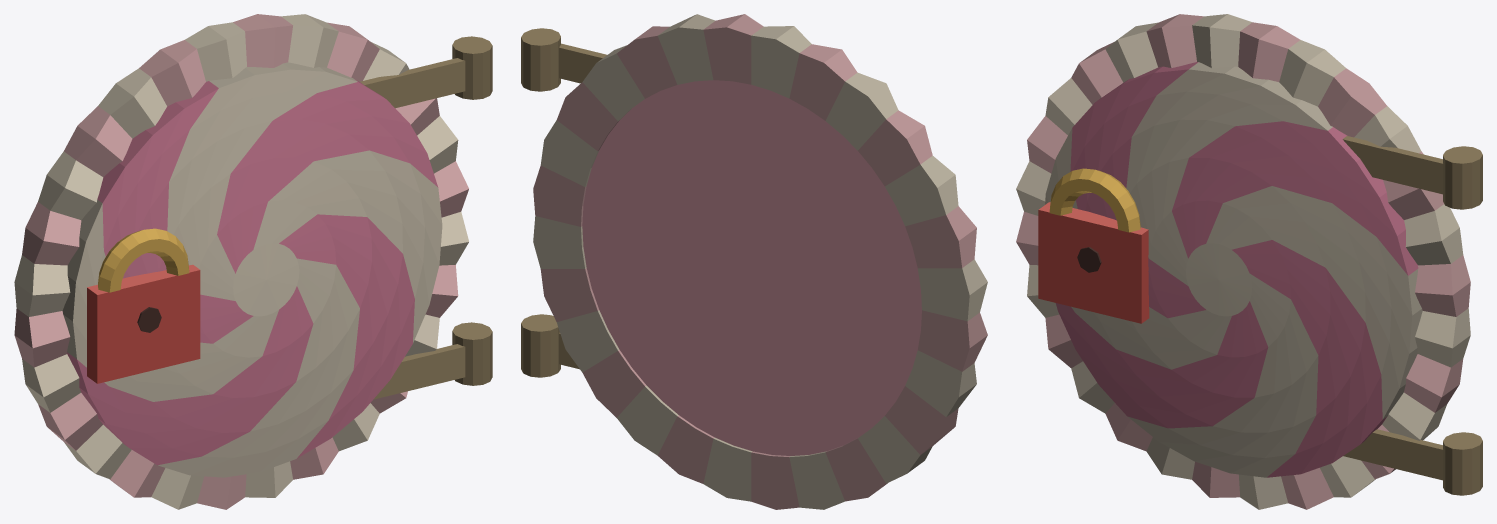
Rendered from lock_stopper_candy.fbx.
3 views of the same model, side by side, from view 1: azimuth 30°, elevation 25°; view 2: azimuth 150°, elevation 25°; view 3: azimuth 330°, elevation 25° (orthographic).
Parts seen in each view (by area): view 1: lock_stopper_candy; view 2: lock_stopper_candy; view 3: lock_stopper_candy.
Boxes of the visible parts, box(x1,y1,x2,y2) form: lock_stopper_candy: box(14, 14, 492, 509); lock_stopper_candy: box(521, 14, 987, 509); lock_stopper_candy: box(1016, 14, 1482, 509).
Bounding box in the file's own units: 9.89 × 9.66 × 1.51.
